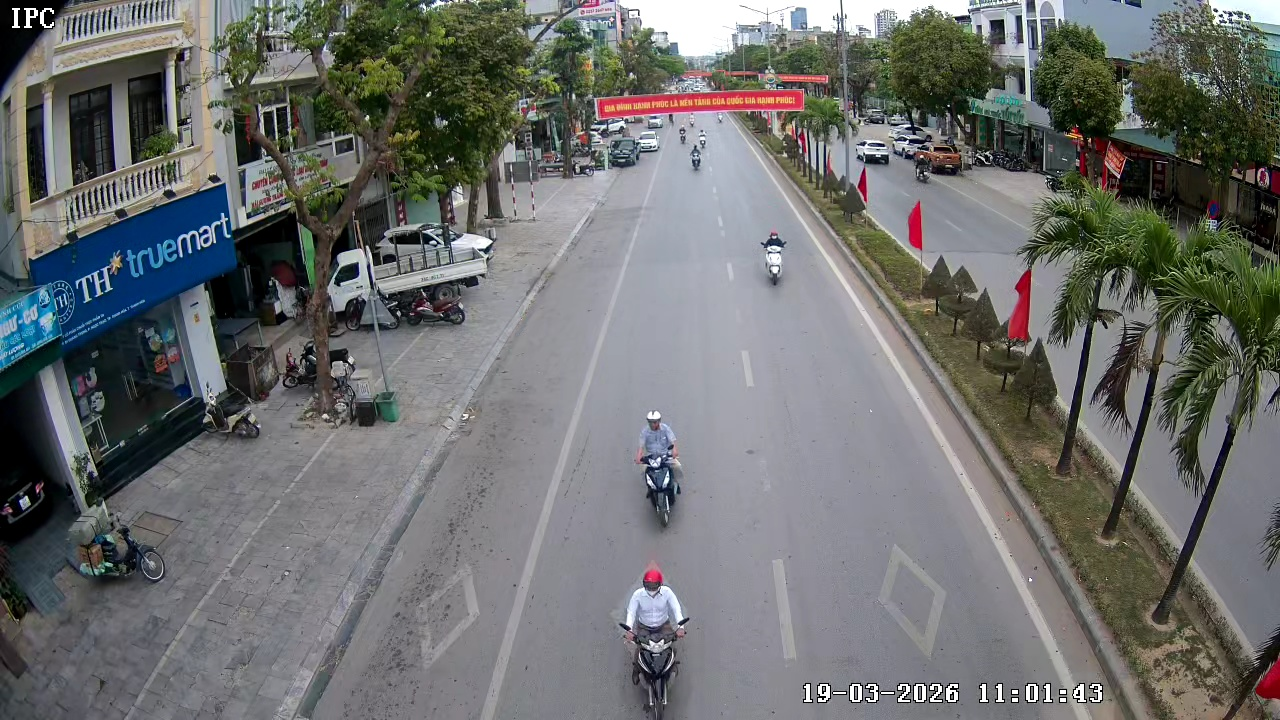motorbike: (615, 566, 693, 719), (71, 501, 168, 587), (633, 408, 686, 530), (759, 228, 790, 287), (688, 139, 705, 172), (679, 123, 688, 145)
truck: (606, 134, 644, 168)
